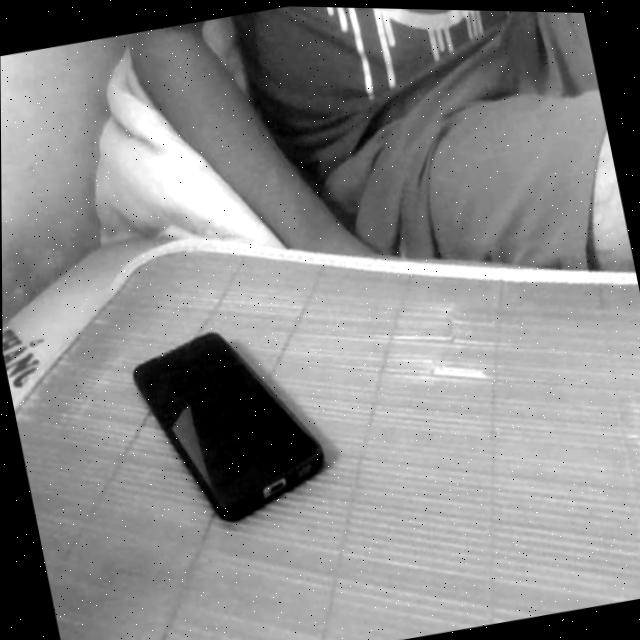phone: (102, 289, 358, 567)
